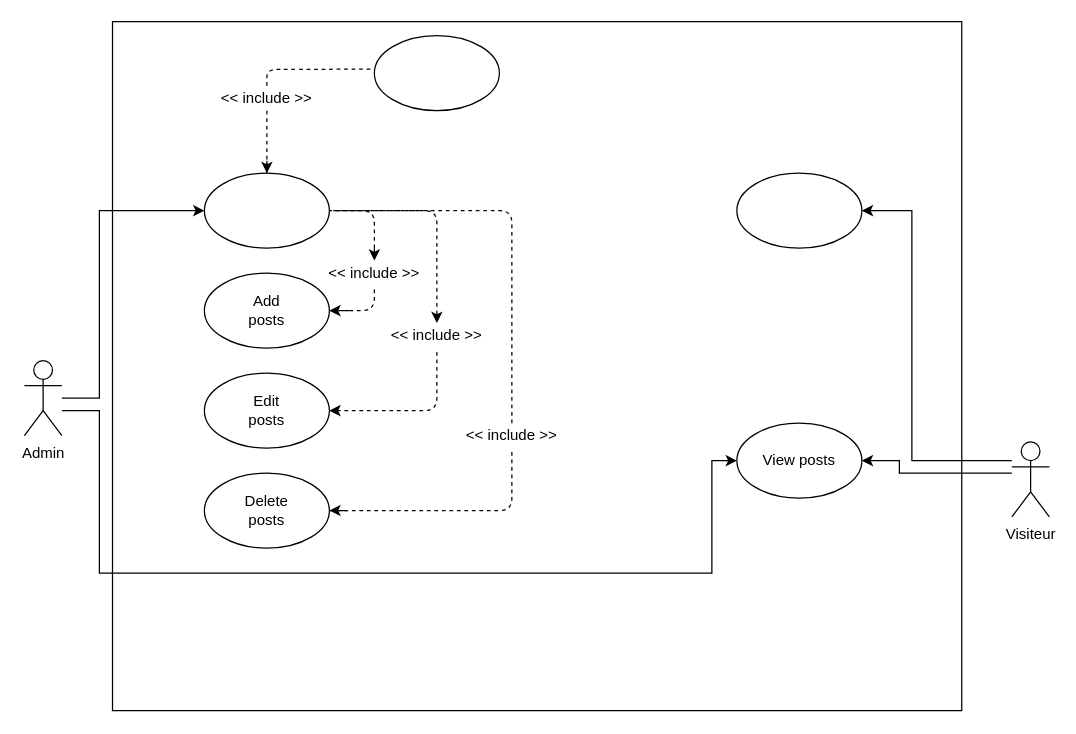
The diagram is 1076 pixels wide and 734 high, and some of its shapes have lost their labels. Each missing label, with the centre of its shape:
"Date" belongs at pixel 799 210.
"Login" belongs at pixel 266 210.
"Verification email & password" belongs at pixel 436 72.
